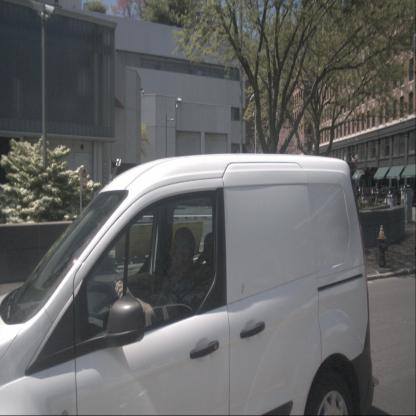vehicle-car: (0, 151, 376, 416), (376, 185, 396, 205), (361, 186, 379, 202)
vehicle-truck: (390, 184, 416, 206)
